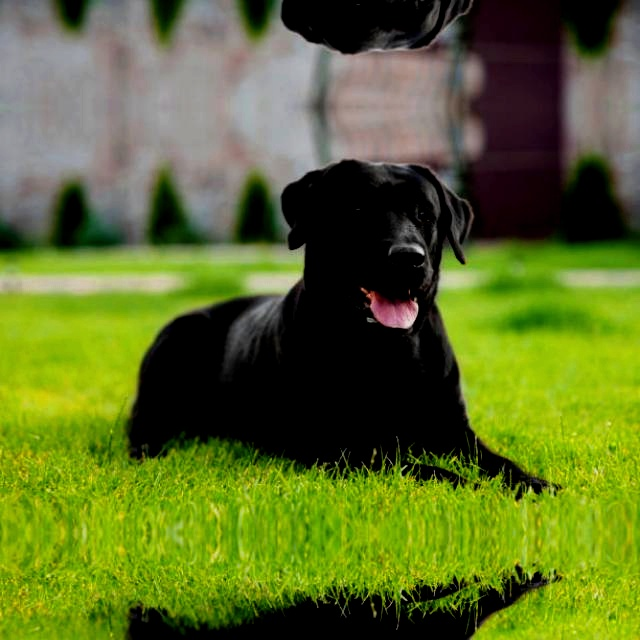dog: (99, 143, 493, 467), (99, 0, 493, 69), (99, 598, 493, 640)
